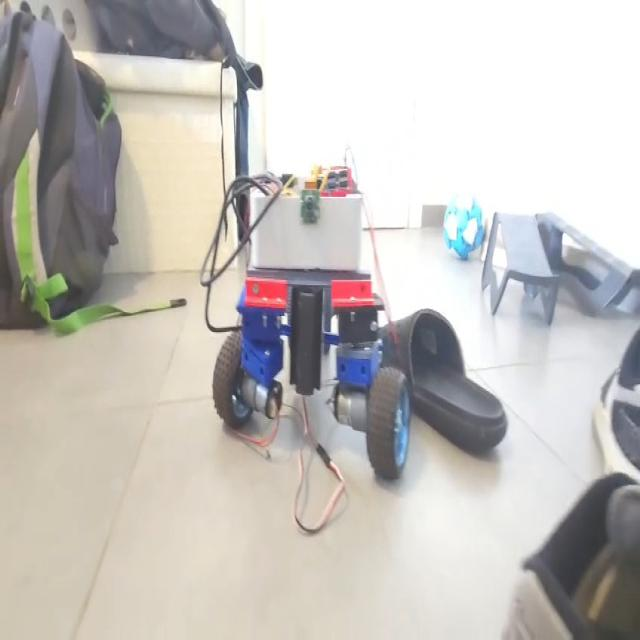Robot: (207, 143, 410, 494)
